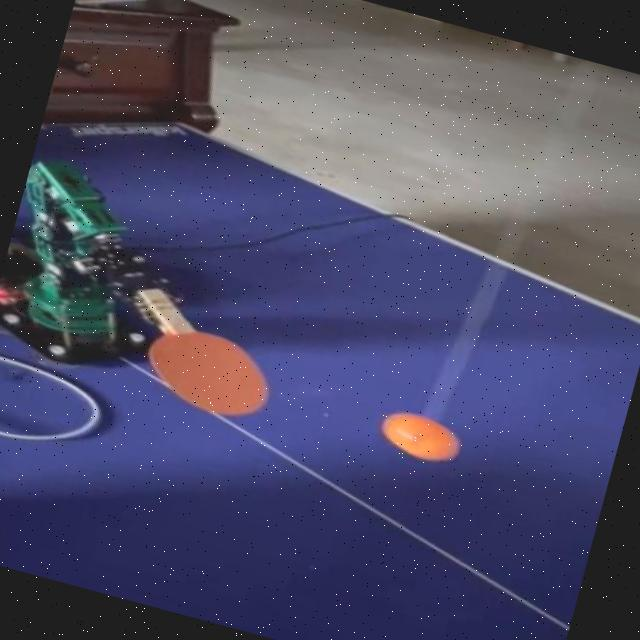ping-pong-ball: (376, 408, 468, 470)
